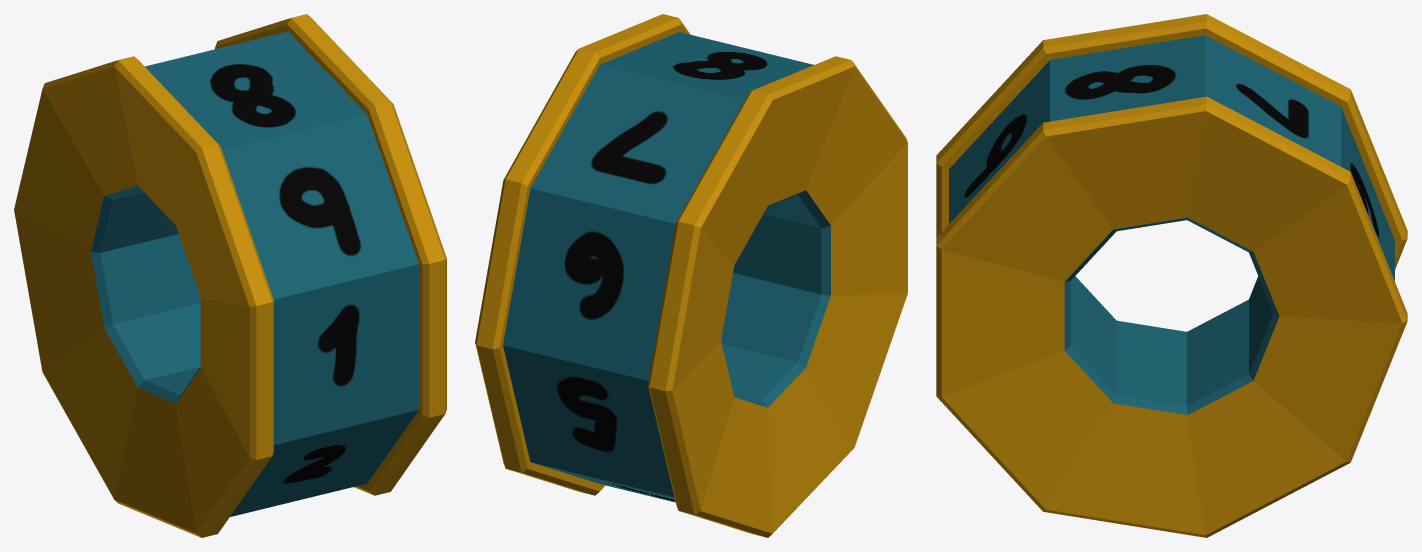
The model's file is (Prop)Rotate-Slot_01.fbx.
3 renders of one model, left to right at view 1: azimuth 30°, elevation 25°; view 2: azimuth 150°, elevation 25°; view 3: azimuth 270°, elevation 25°, orthographic. The views are drawn at different scales.
Visible parts, largest first — view 1: Rotate Slot (9); view 2: Rotate Slot (9); view 3: Rotate Slot (9).
Part boxes in pixels (box(x1,y1,x2,y2)): Rotate Slot (9): box(14, 14, 446, 537); Rotate Slot (9): box(475, 14, 907, 537); Rotate Slot (9): box(936, 14, 1407, 537).
Bounding box in the file's own units: 0.7116 × 1.53 × 1.5.
2 materials, 1 textured.
